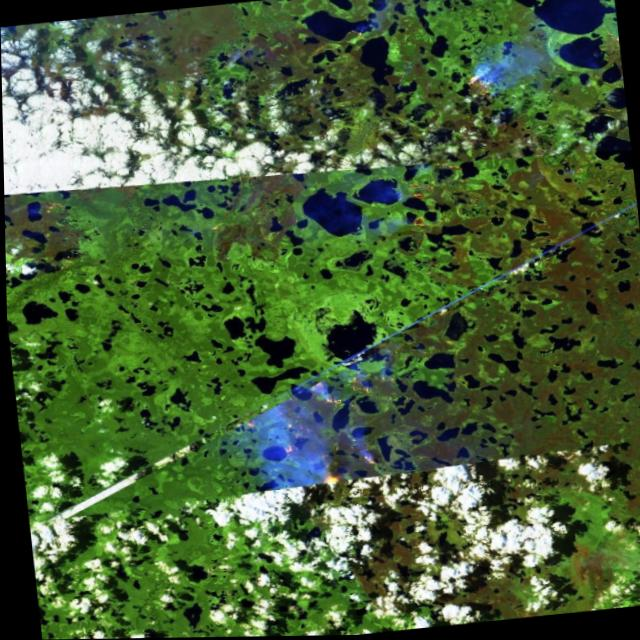fire: (215, 346, 410, 507), (379, 152, 482, 246), (440, 62, 506, 108)
